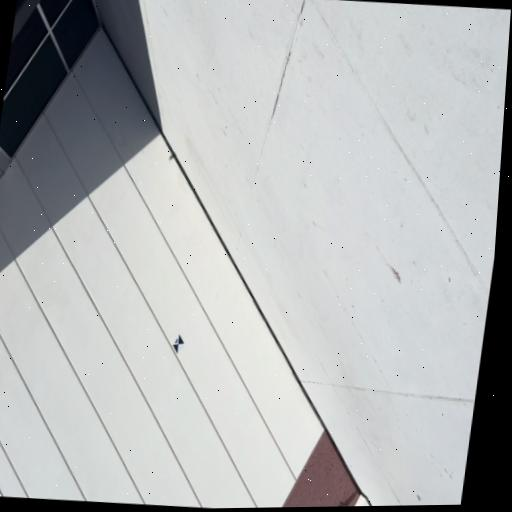target4: (173, 334, 184, 355)
